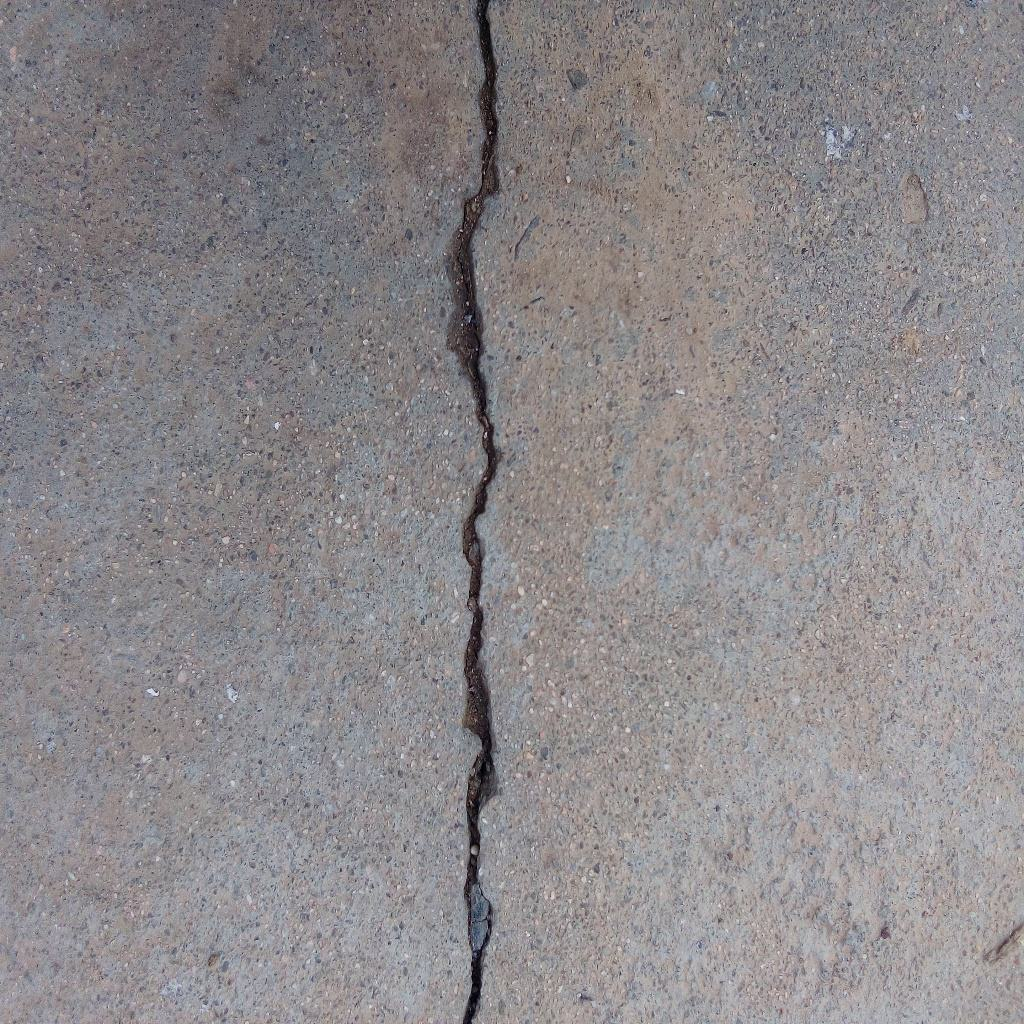Crack: (442, 1, 504, 1024)
